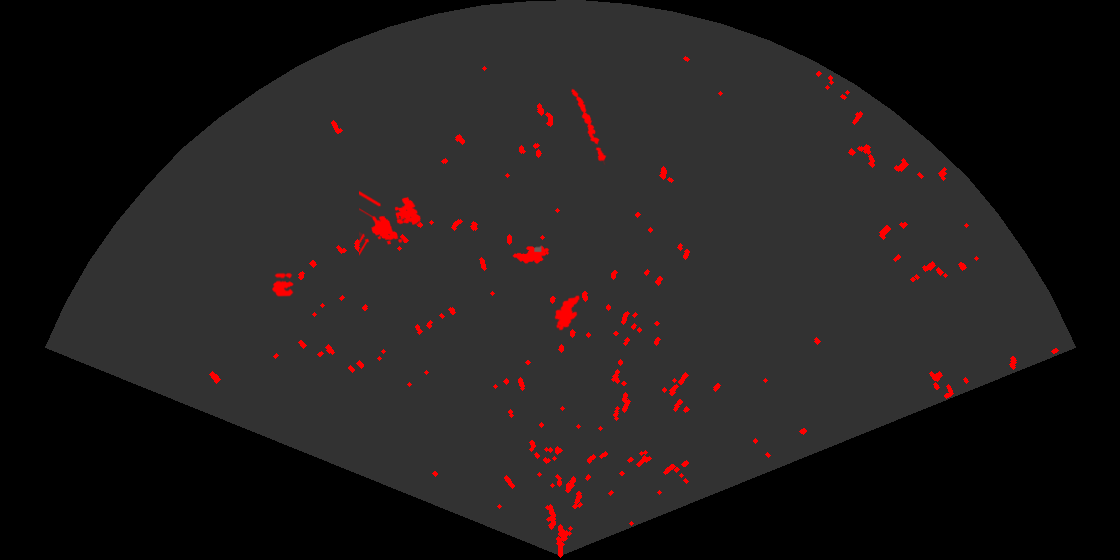AUV: (553, 294, 581, 332), (511, 244, 551, 264)
ball: (271, 271, 295, 298)
cage: (359, 189, 422, 257)
chain: (570, 86, 608, 165)
